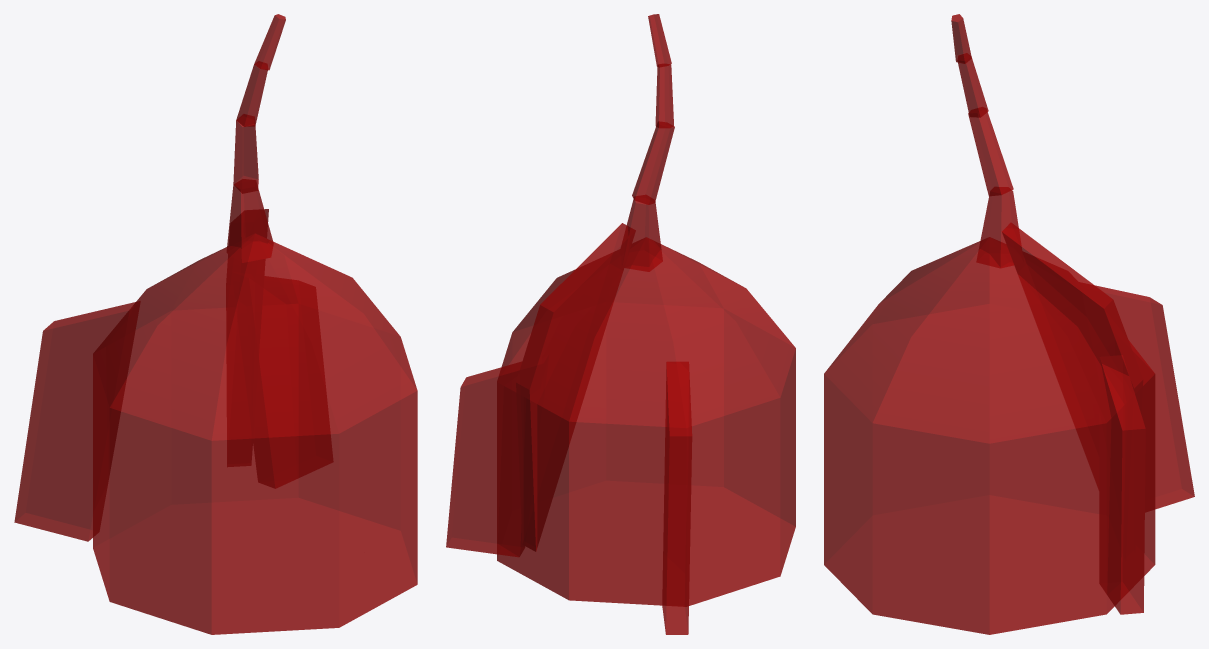
File: SM_Env_Tree_Mangrove_01_Collision.fbx
3 views of the same model, side by side, from view 1: azimuth 30°, elevation 25°; view 2: azimuth 150°, elevation 25°; view 3: azimuth 270°, elevation 25° (orthographic). The views are drawn at different scales.
Parts seen in each view (by area): view 1: SM_Env_Tree_Mangrove_01_Collision; view 2: SM_Env_Tree_Mangrove_01_Collision; view 3: SM_Env_Tree_Mangrove_01_Collision.
Boxes of the visible parts, bbox=[...] form: SM_Env_Tree_Mangrove_01_Collision: bbox=[14, 14, 417, 634]; SM_Env_Tree_Mangrove_01_Collision: bbox=[446, 14, 795, 634]; SM_Env_Tree_Mangrove_01_Collision: bbox=[824, 14, 1194, 634].
Bounding box in the file's own units: 285 × 525 × 319.
